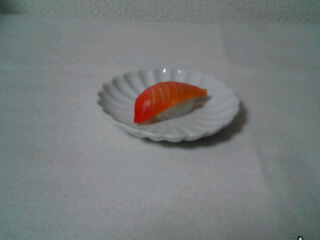002_classes: (132, 79, 213, 126)
